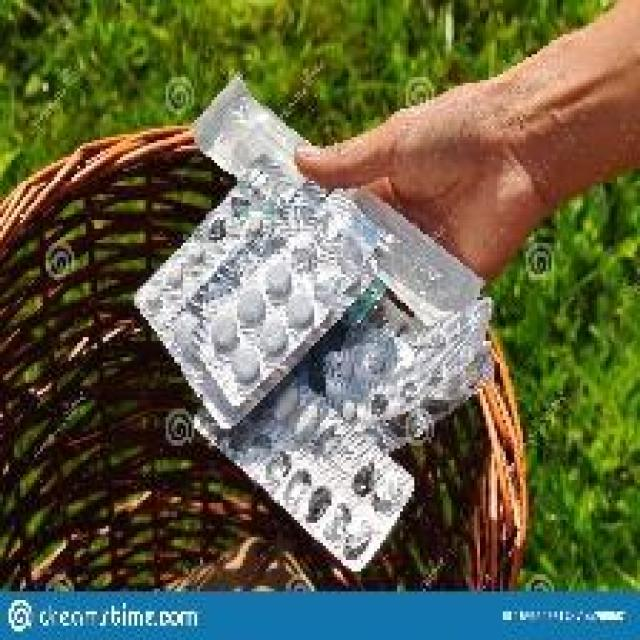Medicine: (122, 79, 488, 542)
